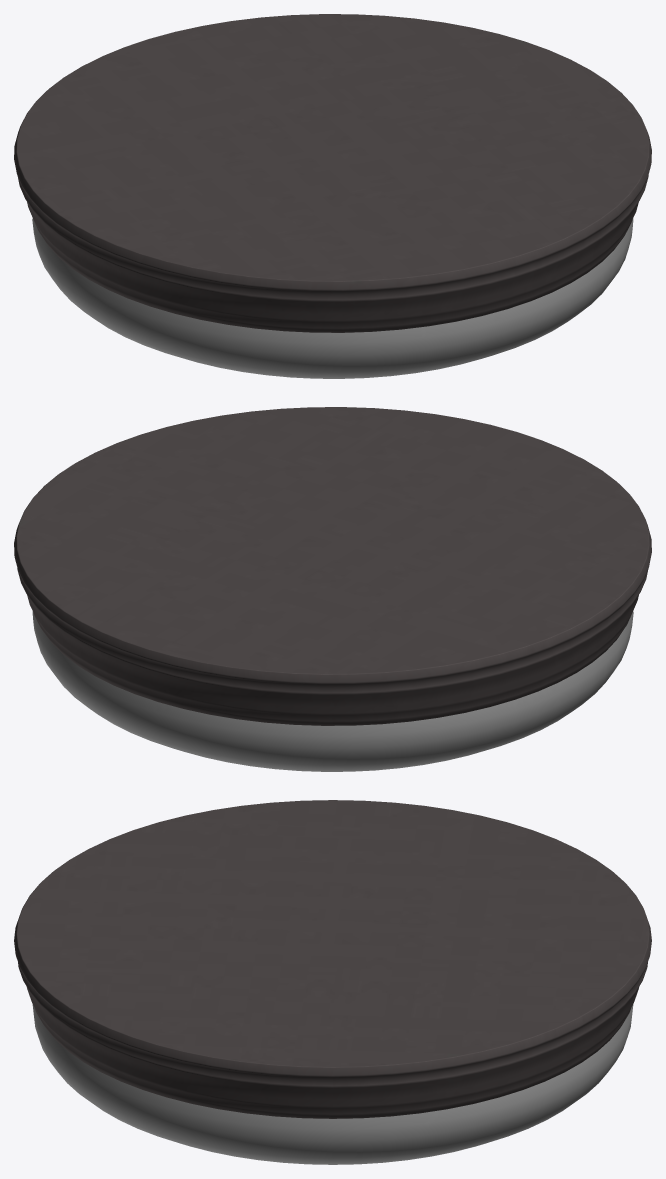
The model's file is B07QGHTCY4.glb.
The picture shows the model from 3 angles, top to bottom: view 1: azimuth 30°, elevation 25°; view 2: azimuth 150°, elevation 25°; view 3: azimuth 270°, elevation 25°; orthographic projection.
Visible parts, largest first — view 1: RootNode; view 2: RootNode; view 3: RootNode.
Boxes of the visible parts, box(x1,y1,x2,y2) form: RootNode: box(14, 14, 651, 378); RootNode: box(14, 407, 651, 771); RootNode: box(14, 800, 651, 1164).
Size of the model in its own units: 0.3681 by 0.1005 by 0.3681.
1 material, 1 textured.
